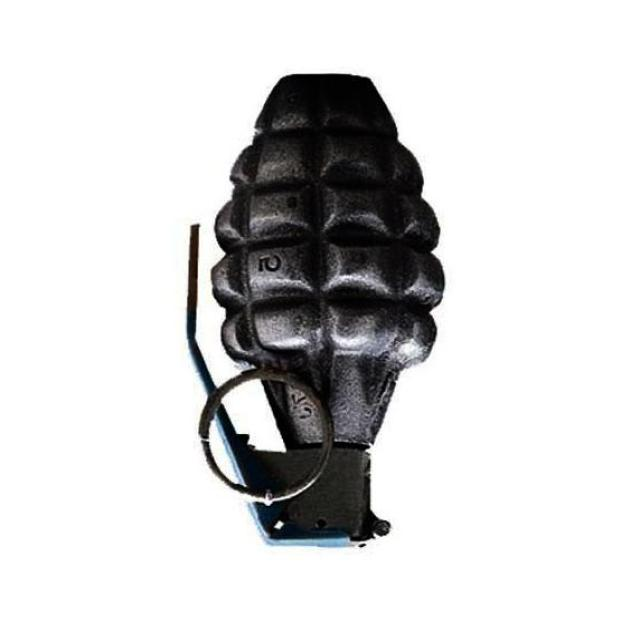grenade: (187, 73, 446, 549)
